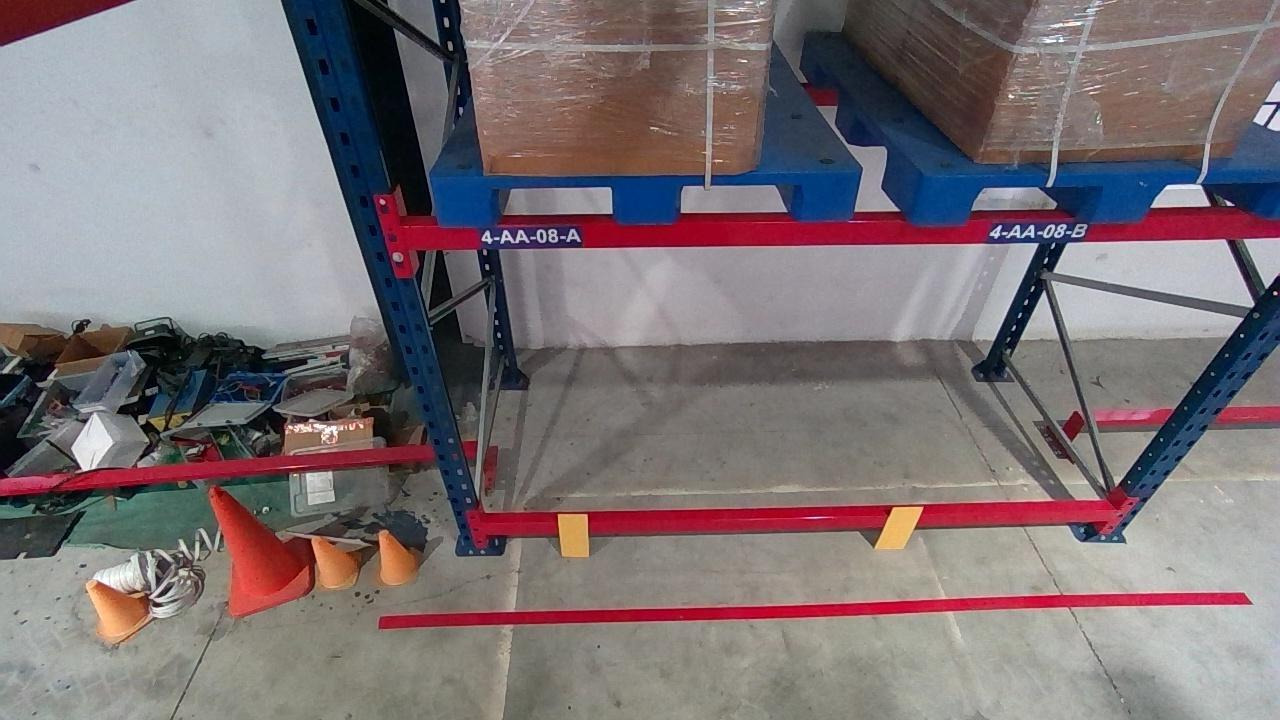h_rack: (404, 216, 1278, 247), (484, 506, 1116, 537)
orange_strip: (873, 506, 925, 548), (557, 514, 589, 556)
red_line: (377, 590, 1250, 629)
small_pallet: (429, 173, 863, 222), (911, 166, 1279, 220)
